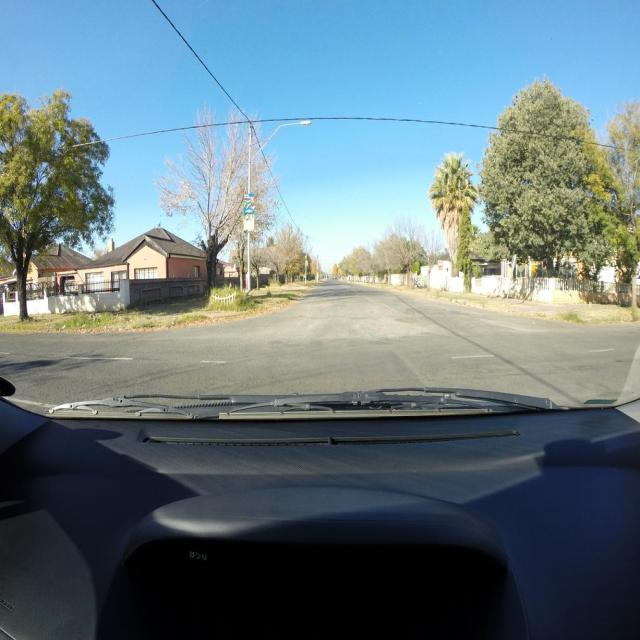Pothole: (396, 318, 418, 323)
